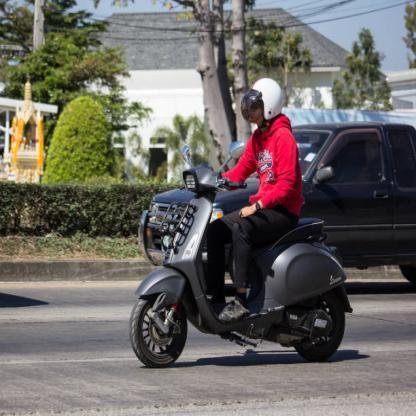Motorcycle: (123, 153, 350, 371)
